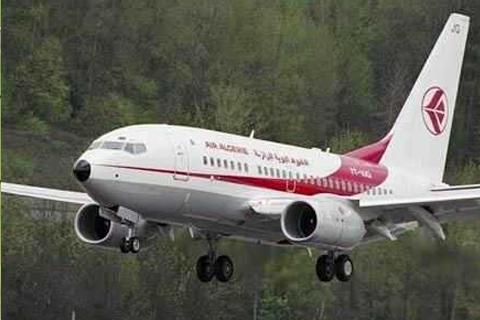airplane: (11, 12, 480, 277)
